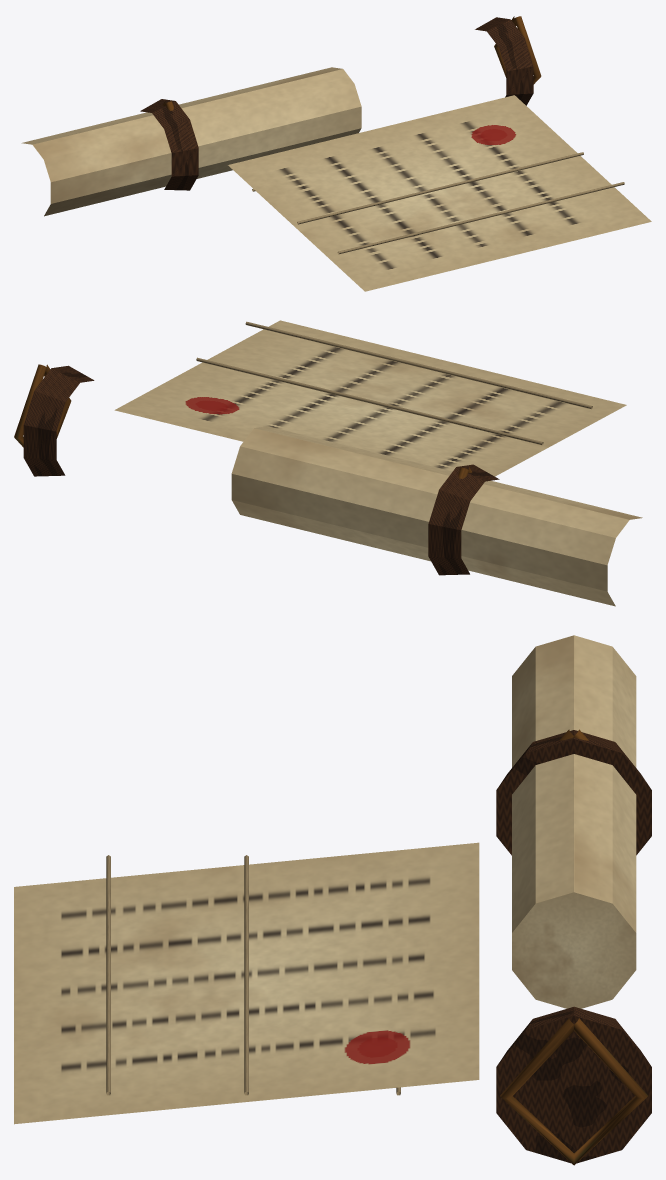
File: contract.glb
3 renders of one model, top to bottom at view 1: azimuth 30°, elevation 25°; view 2: azimuth 150°, elevation 25°; view 3: azimuth 270°, elevation 25°, orthographic. The views are drawn at different scales.
Visible parts, largest first — view 1: Unrolled, Roll, KnobA, KnobB, Art_UnbleachedPaper, Art_OxidizedBrass; view 2: Unrolled, Roll, KnobB, KnobA, Art_UnbleachedPaper, Art_OxidizedBrass; view 3: Unrolled, Roll, KnobB, KnobA, Art_OxidizedBrass, Art_UnbleachedPaper.
Boxes of the visible parts, x1,y1,x2,y2 form: Unrolled: (228, 95, 651, 291); Roll: (21, 67, 361, 216); KnobA: (140, 99, 198, 190); KnobB: (475, 17, 533, 105); Art_UnbleachedPaper: (252, 152, 624, 254); Art_OxidizedBrass: (162, 16, 541, 110); Unrolled: (114, 320, 626, 476); Roll: (231, 426, 642, 606); KnobB: (23, 365, 94, 476); KnobA: (428, 464, 499, 575); Art_UnbleachedPaper: (196, 321, 592, 445); Art_OxidizedBrass: (14, 364, 471, 478); Unrolled: (14, 842, 479, 1124); Roll: (512, 635, 636, 1008); KnobB: (496, 1006, 651, 1163); KnobA: (496, 730, 651, 855); Art_OxidizedBrass: (500, 729, 647, 1165); Art_UnbleachedPaper: (106, 855, 400, 1095).
Bounding box in the file's own units: 0.4088 × 0.0718 × 0.2727.
5 materials, 5 textured.
